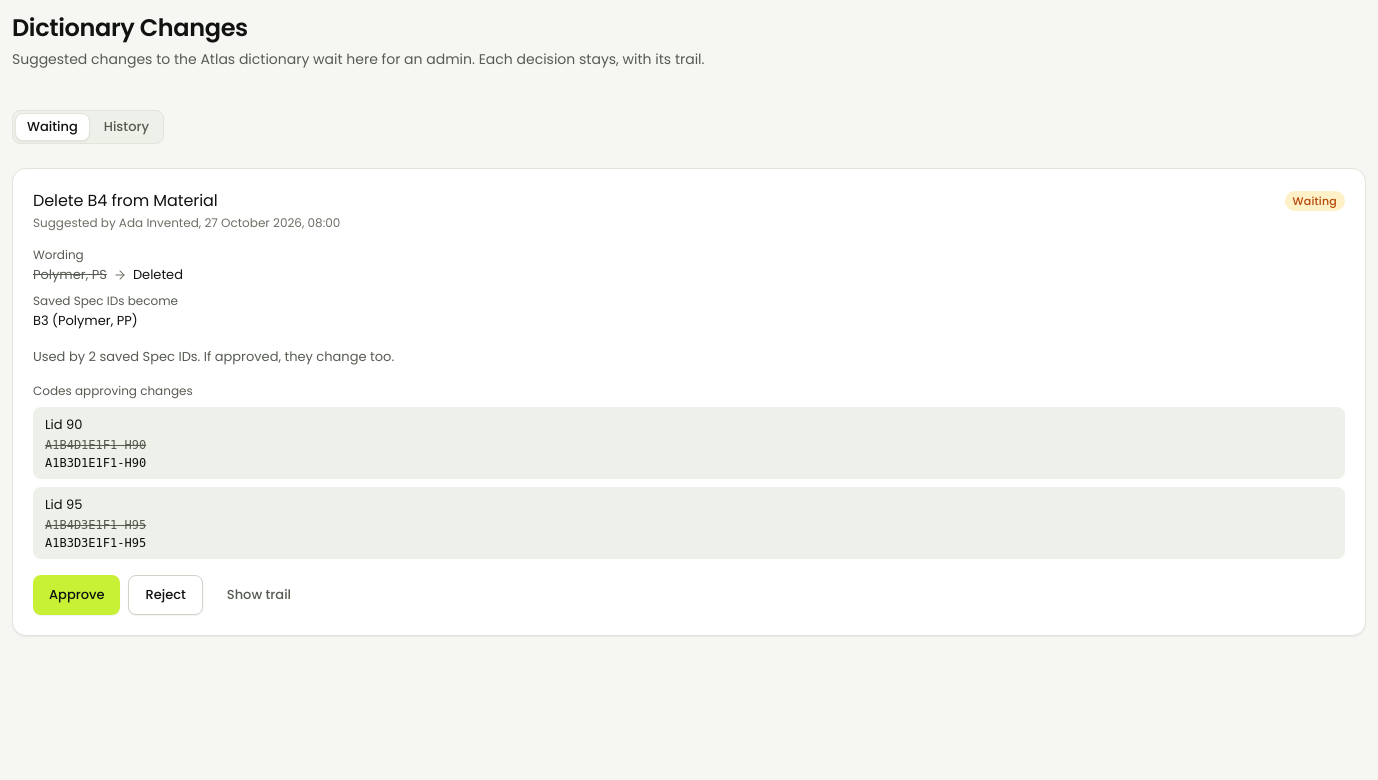
Test case: DictionaryChangesPage › approves the version read, and says the change is live in #95's words
The width and height of the screenshot is (1378, 780).
Click the button "Approve": (77, 595) [33,575,120,615]
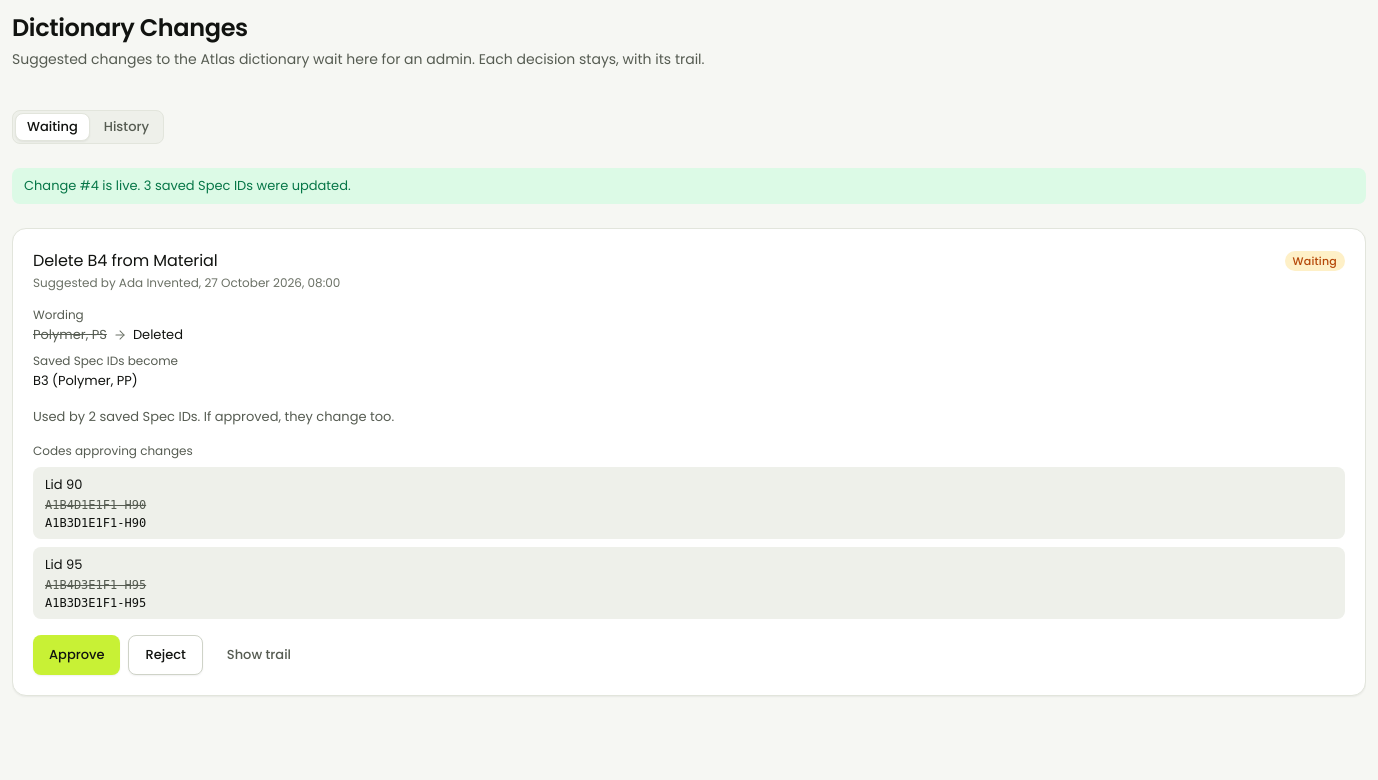
Result: the text "Change #4 is live. 3 saved Spec IDs were updated." is shown at [12,168,1366,204]
